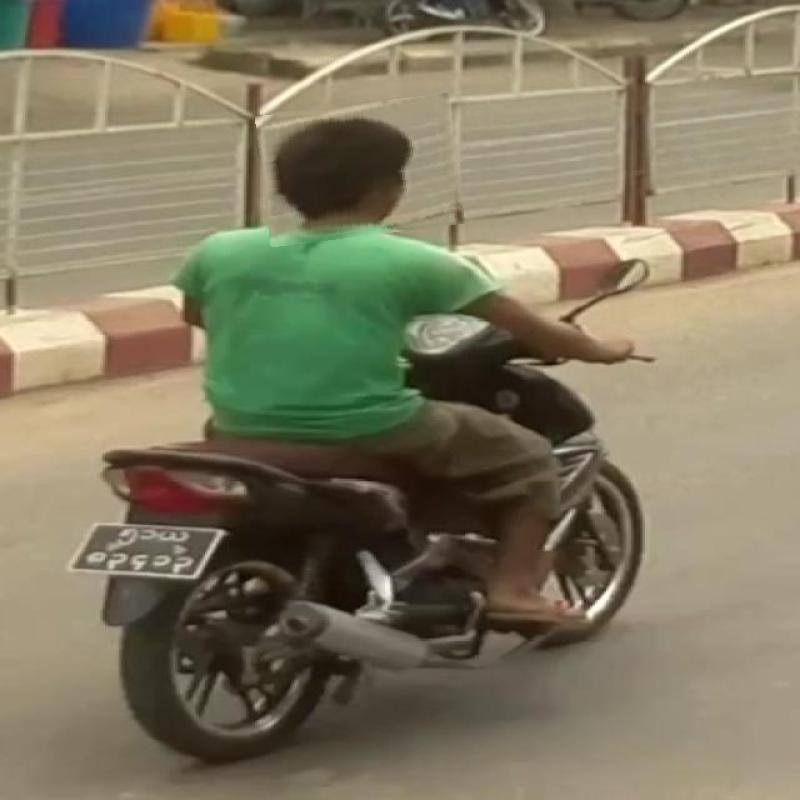nohelmet: (258, 98, 462, 242)
